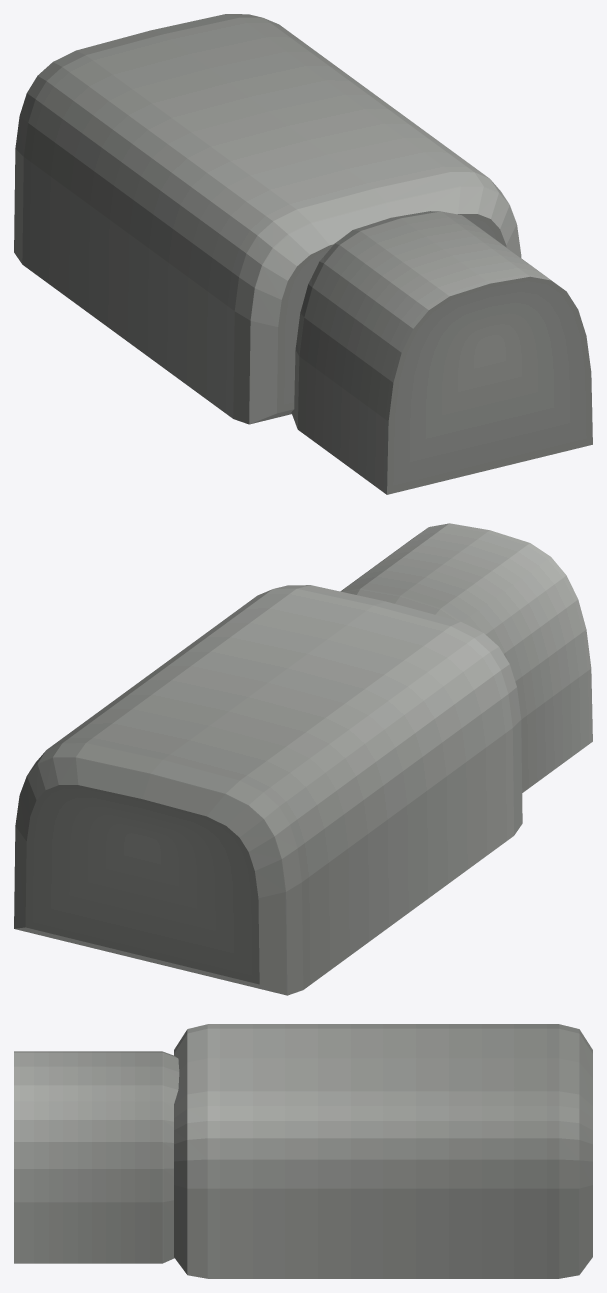
The model's file is streetlight_altorll.obj.
The picture shows the model from 3 angles, top to bottom: view 1: azimuth 30°, elevation 25°; view 2: azimuth 150°, elevation 25°; view 3: azimuth 270°, elevation 25°; orthographic projection. The views are drawn at different scales.
Visible parts, largest first — view 1: fixture; view 2: fixture; view 3: fixture.
Boxes of the visible parts, <box> form: fixture: <box>14,14,592,494</box>; fixture: <box>14,523,592,995</box>; fixture: <box>14,1024,592,1278</box>.
Size of the model in its own units: 0.375 by 0.2625 by 0.8031.
